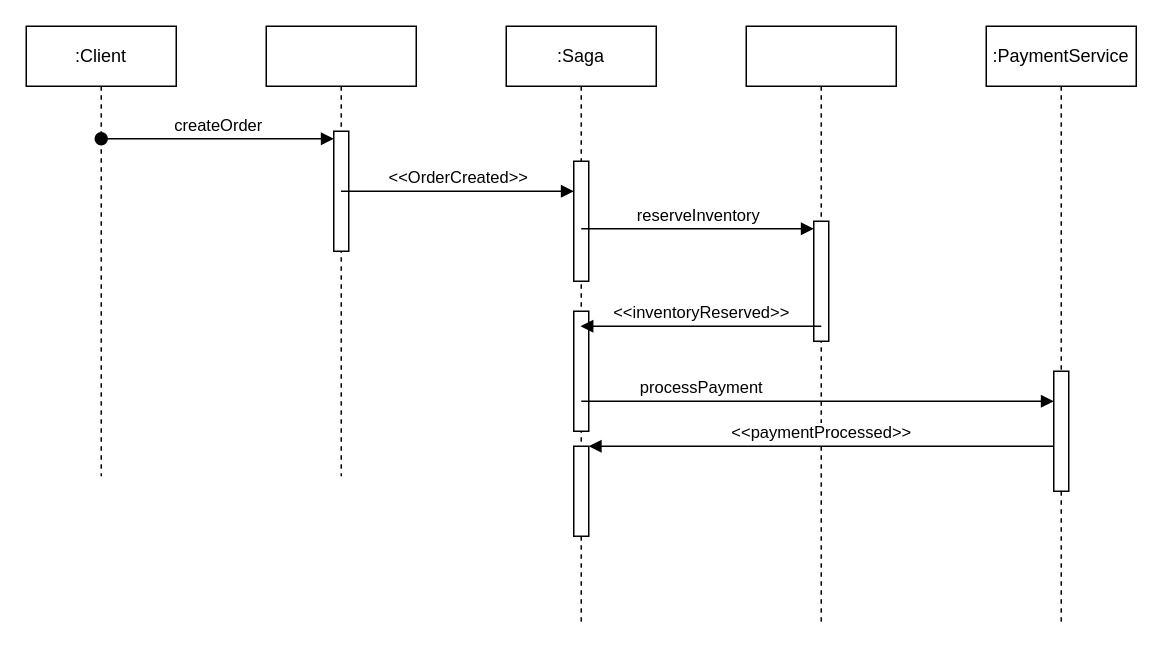
Some shapes in this 1163 by 653 pixel diagram are drawn without their labels. The shapes that lost their labels are listed below. From the top down, each one's centre as x and y in pixels, then its label:
point 340,250: :OrderService
point 820,325: :InventoryService
